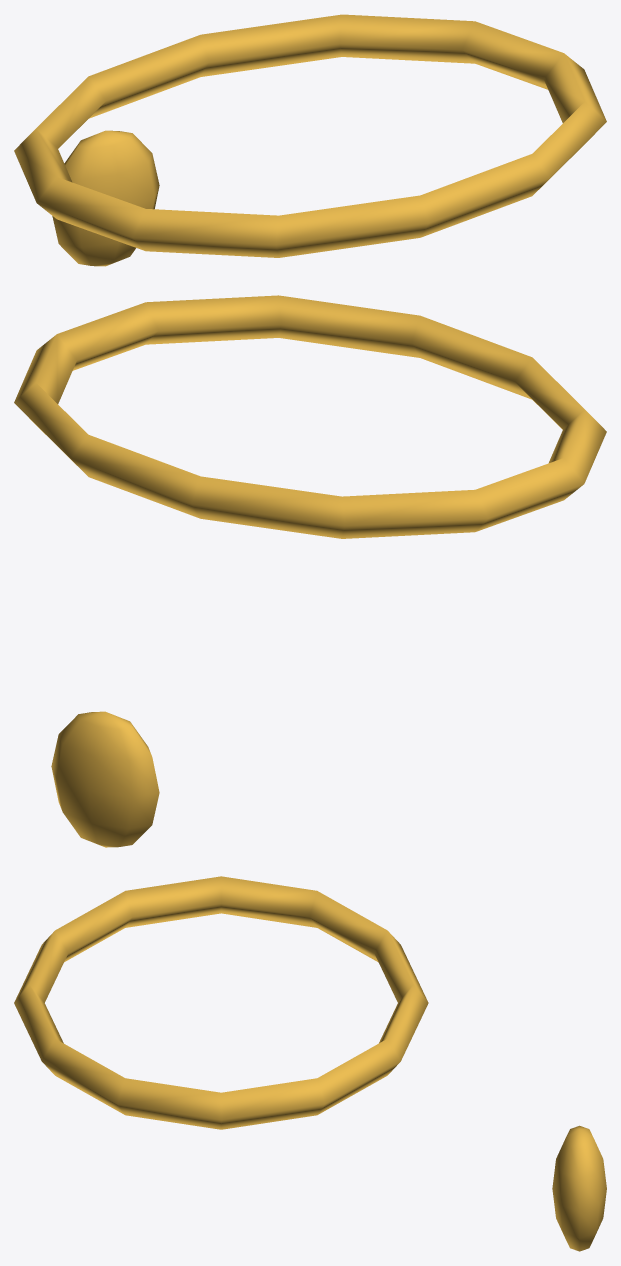
The model's file is acc_chain.glb.
3 views of the same model, one above another, from view 1: azimuth 30°, elevation 25°; view 2: azimuth 150°, elevation 25°; view 3: azimuth 270°, elevation 25° (orthographic). The views are drawn at different scales.
Visible parts, largest first — view 1: Body; view 2: Body; view 3: Body.
Part boxes in pixels (bbox=[...]): Body: bbox=[14, 14, 606, 266]; Body: bbox=[14, 295, 606, 847]; Body: bbox=[14, 876, 606, 1251].
Bounding box in the file's own units: 0.162 × 0.0852 × 0.1737.
